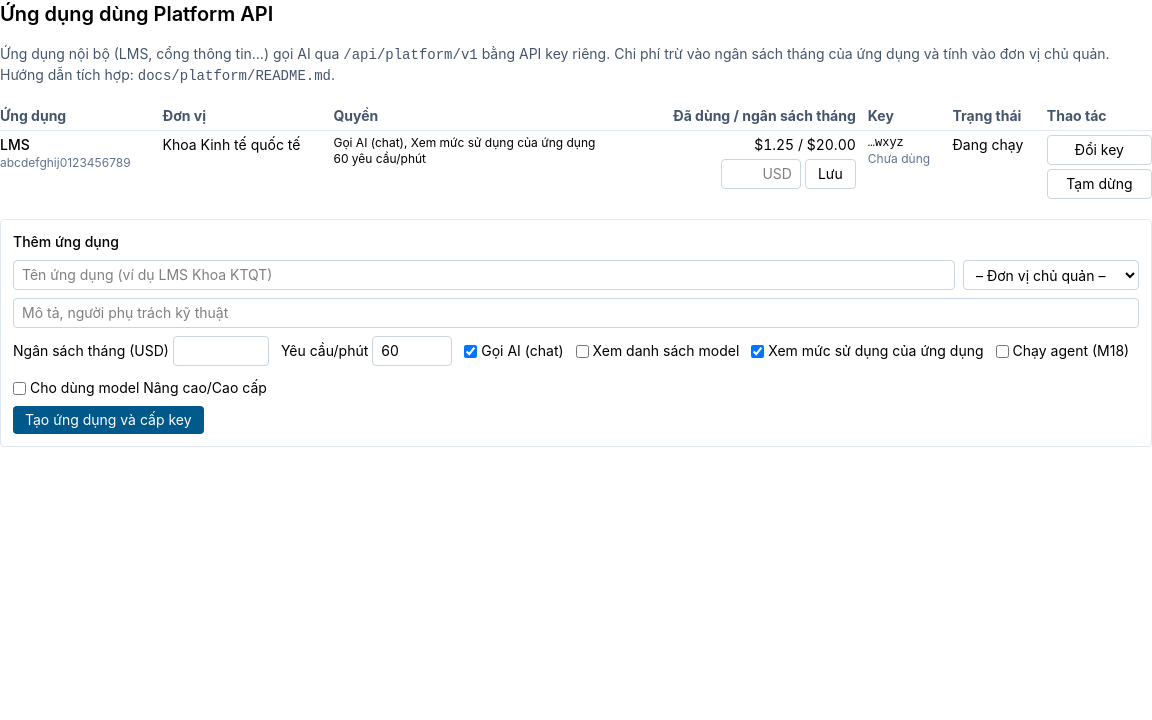
Scenario: AppClientsPage › lists apps with spend and shows a new key once
Expected: the text "Khoa Kinh tế quốc tế" is shown, [163,130,333,203]
Expected: the element named "Danh sách ứng dụng" shows "$1.25 / $20.00", [0,102,1151,203]
Type "Cổng SV" into the field labelled "Tên ứng dụng" at (484, 275), box [13,260,955,290]
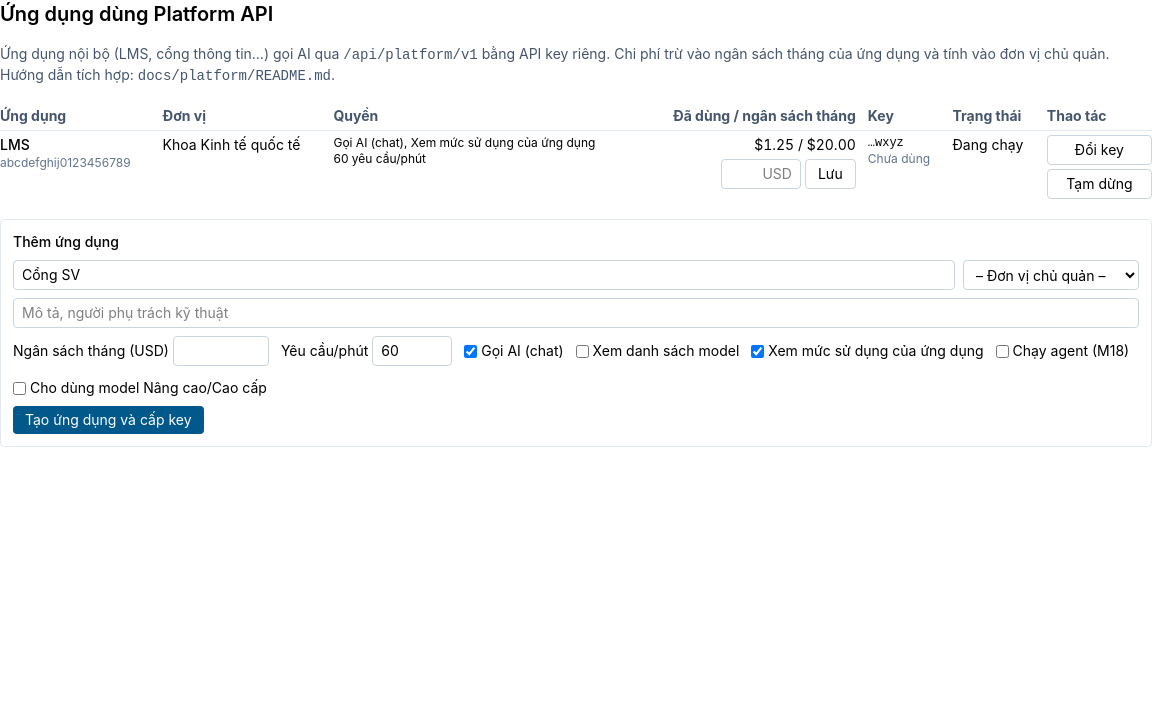
Select "Khoa Kinh tế quốc tế" in the dropdown named "Đơn vị chủ quản" at (1051, 275), box [963,260,1139,290]
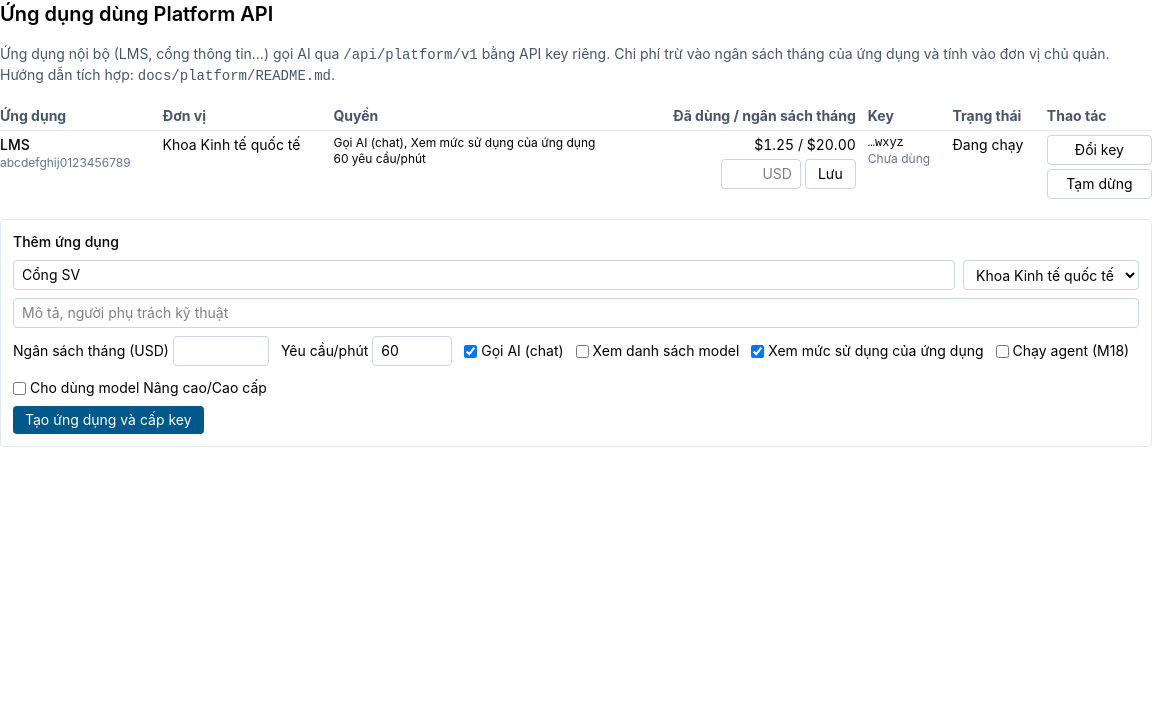
Type "5" into the field labelled "Ngân sách tháng (USD)" at (221, 351), box [173,336,269,366]
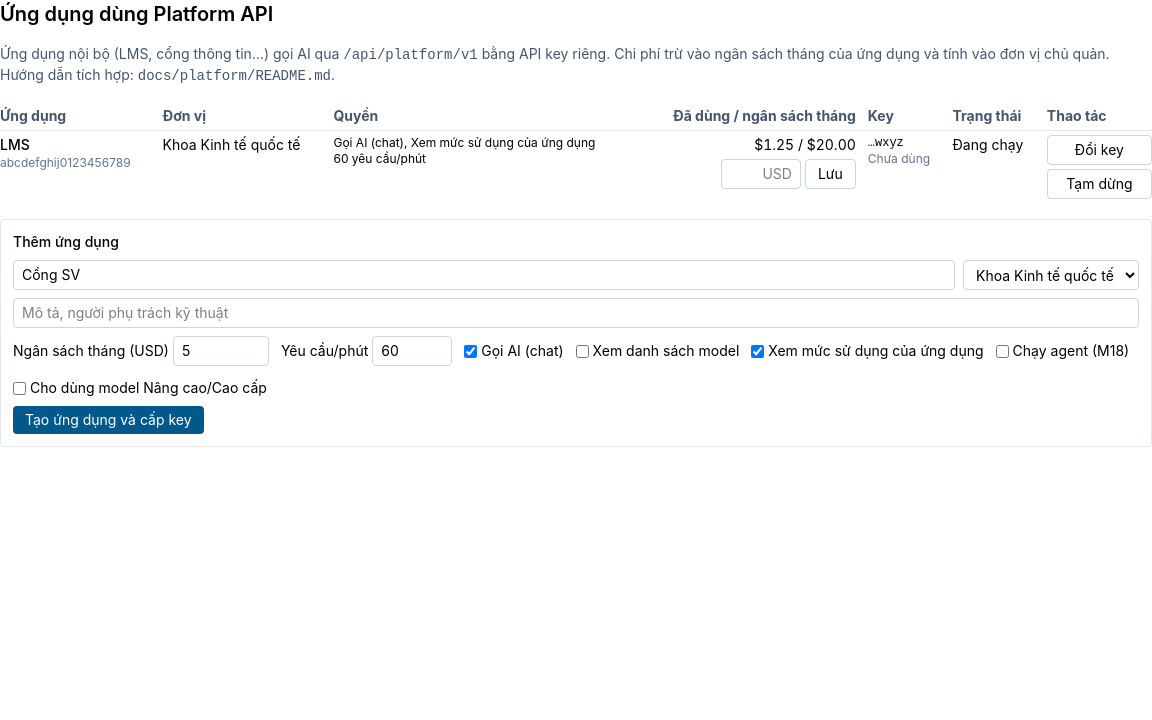
Click the button "Tạo ứng dụng và cấp key" at (108, 420), box [13,406,204,434]
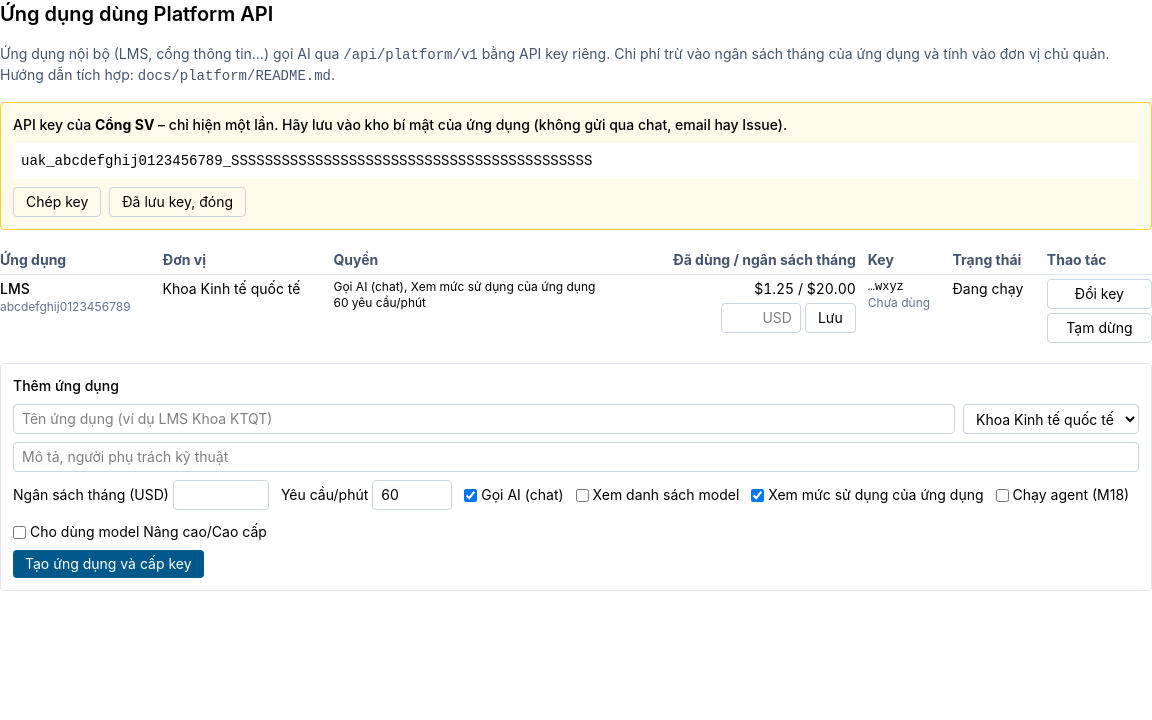
Click the button "Đã lưu key, đóng" at (178, 202), box [109,187,246,217]
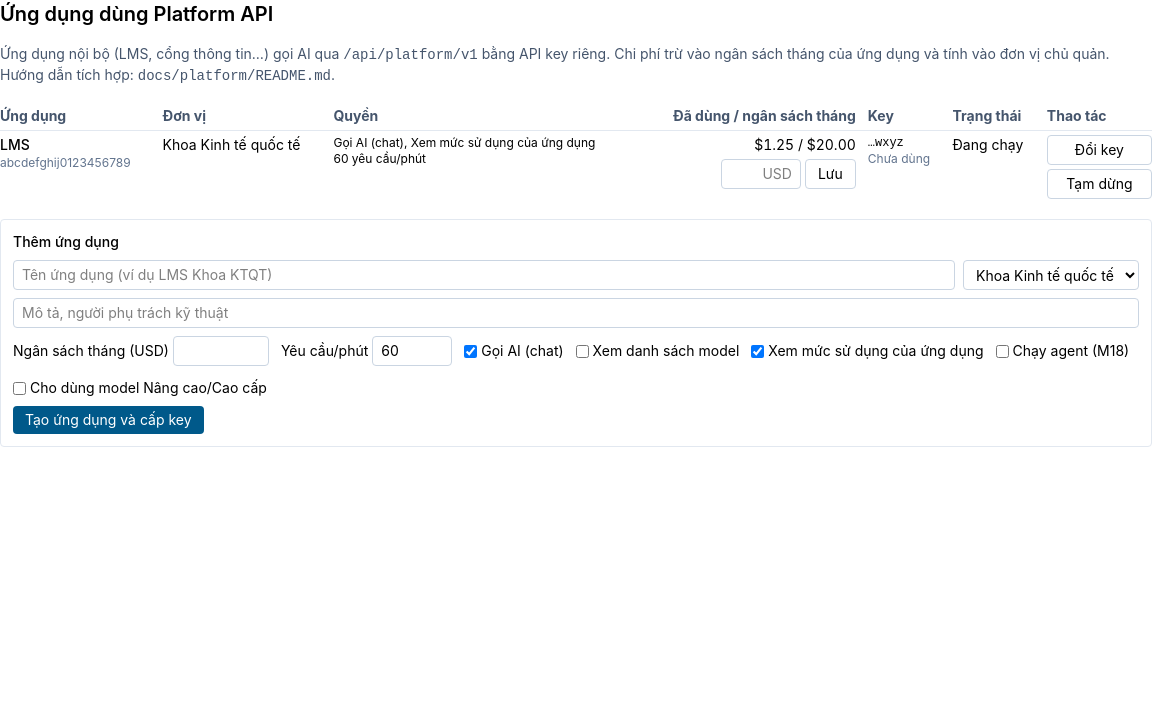
Now the text with test id "app-key" is gone
